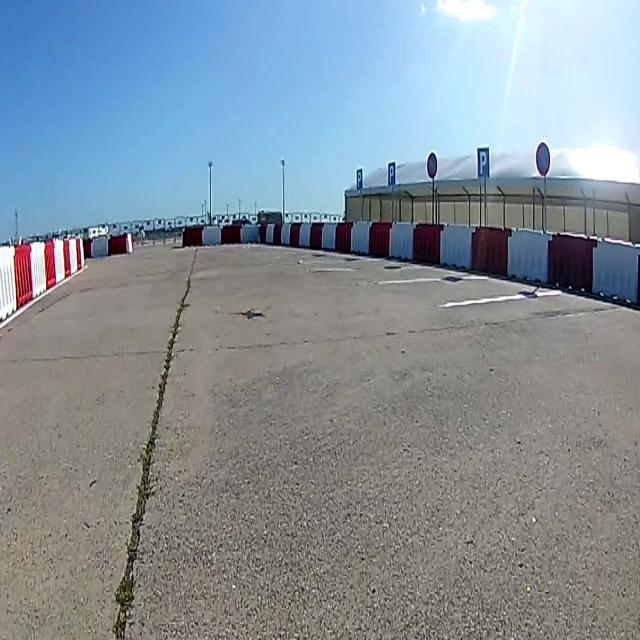park: (476, 146, 489, 178), (388, 162, 396, 186), (356, 169, 364, 191)
parkyasak: (536, 142, 550, 176), (427, 152, 438, 178)
